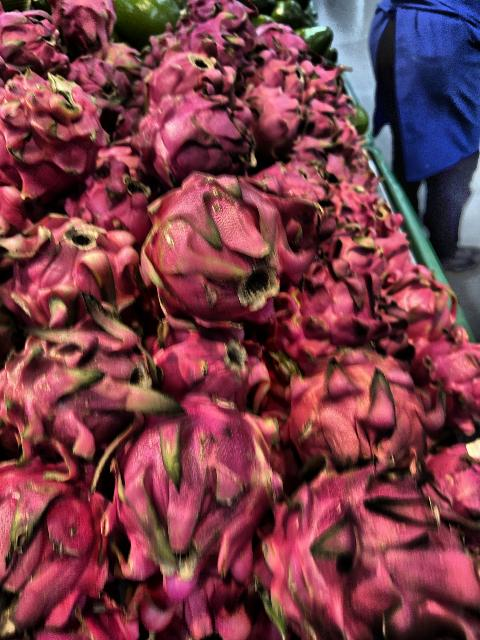buah-naga-belum-matang: (95, 382, 281, 582), (0, 304, 160, 454)
buah-naga-matang: (262, 470, 480, 636), (128, 172, 292, 316), (289, 332, 443, 468), (2, 456, 106, 618), (0, 65, 114, 191), (4, 216, 128, 322), (149, 314, 267, 410), (132, 94, 252, 176), (292, 256, 376, 340), (388, 270, 462, 352), (73, 172, 159, 236), (408, 342, 480, 418), (256, 158, 336, 216), (140, 51, 232, 98), (7, 13, 63, 77), (64, 54, 136, 102)
